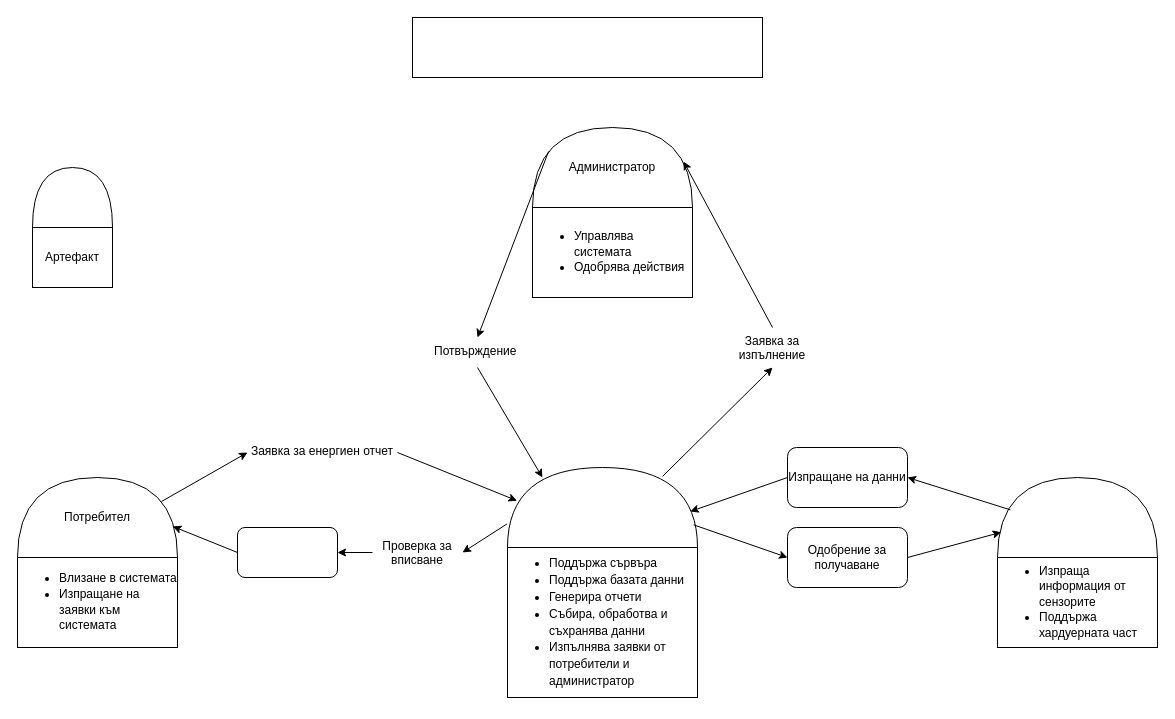
This 1175x719 diagram has some shape labels left out. The centre of each missing label's shape, as x and y in pixels:
Flow Model ( генериране на енергиен отчет ): [587,47]
Генерираве на таблица за енергиен отчет: [287,552]
Роля: [72,197]
Система: [602,507]
Хардуер: [1077,517]
